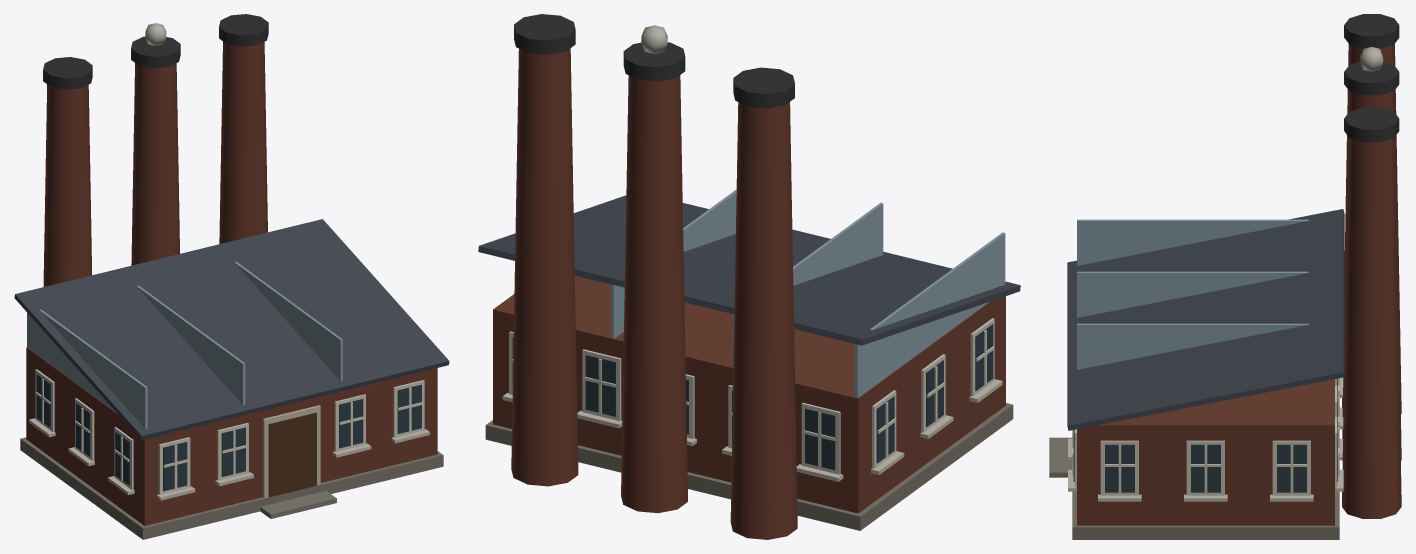
Rendered from procedural_engineworks@5.glb.
3 renders of one model, left to right at view 1: azimuth 30°, elevation 25°; view 2: azimuth 150°, elevation 25°; view 3: azimuth 270°, elevation 25°, orthographic. The views are drawn at different scales.
Visible parts, largest first — view 1: part_0; view 2: part_0, part_4; view 3: part_0, part_4.
Part boxes in pixels (x1,y1,x2,y2): part_0: [14, 14, 449, 539]; part_0: [478, 14, 1020, 539]; part_4: [641, 25, 667, 53]; part_0: [1049, 14, 1401, 539]; part_4: [1360, 46, 1383, 71].
Bounding box in the file's own units: 8.4 × 9.89 × 7.65.
